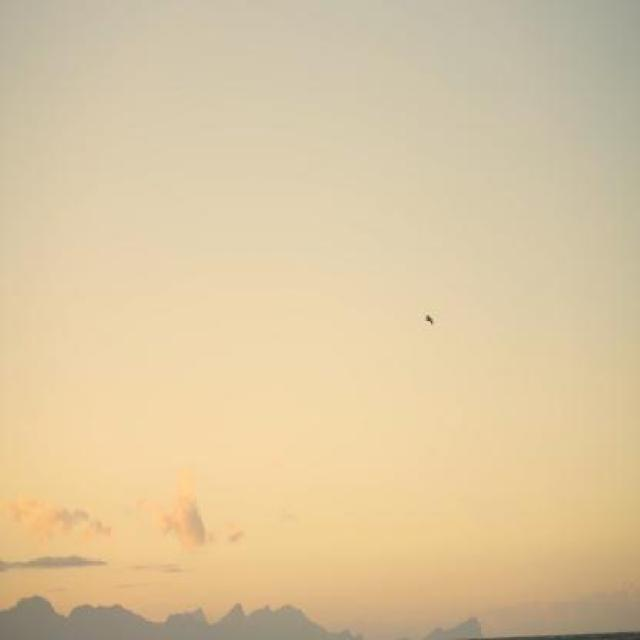bird: (420, 309, 438, 333)
